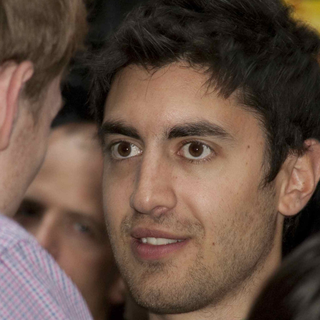eye: (173, 138, 222, 165), (104, 138, 144, 162)
